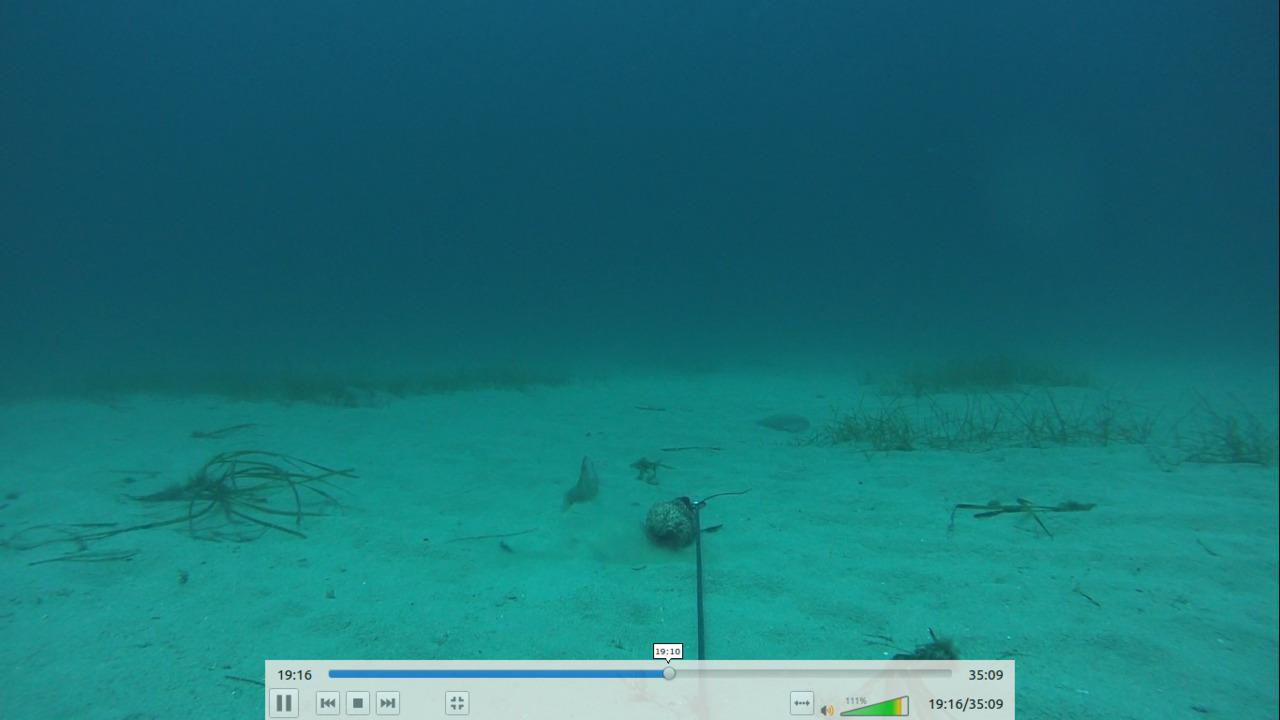raor: (559, 451, 608, 508), (747, 408, 815, 441)
